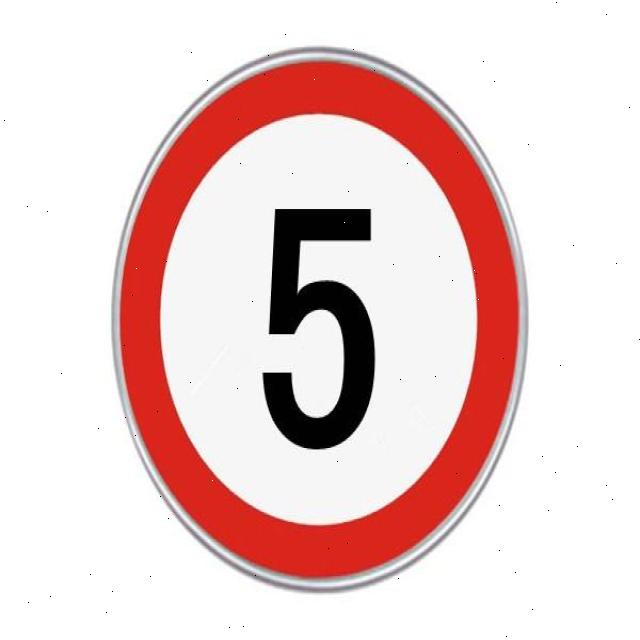speed limit 10: (111, 44, 529, 591)
